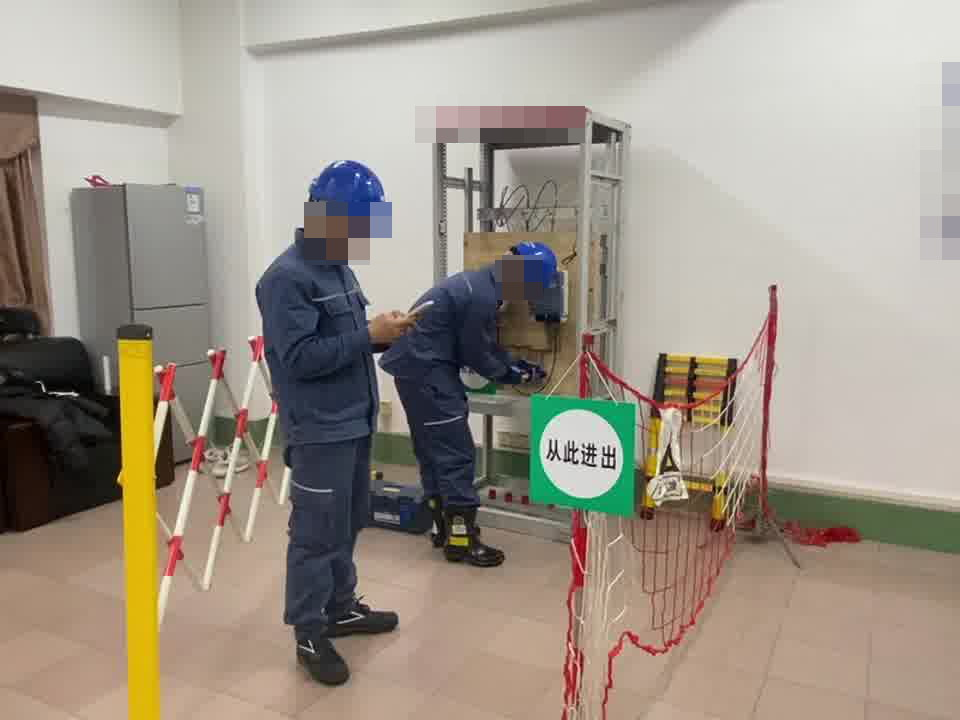downsuit: (281, 442, 377, 630), (391, 368, 482, 521)
glove: (510, 354, 548, 388)
halt: (303, 159, 392, 253), (506, 241, 563, 304)
hand: (370, 307, 415, 345)
inear: (312, 197, 344, 242)
intosign: (526, 392, 640, 520)
person: (252, 152, 395, 679), (387, 234, 563, 571)
shoe: (427, 496, 507, 567)
upsuit: (256, 240, 385, 436), (386, 263, 511, 388)
